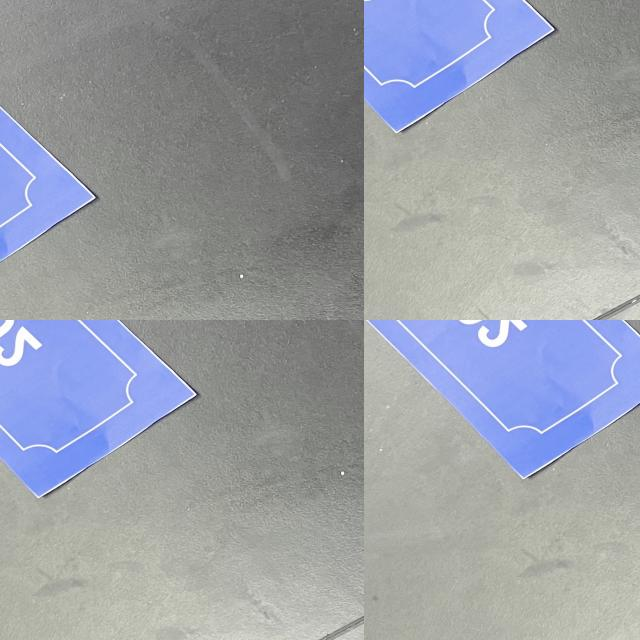Card: (364, 0, 640, 320), (0, 51, 252, 320), (364, 320, 640, 505), (236, 498, 364, 640), (0, 320, 64, 414)
